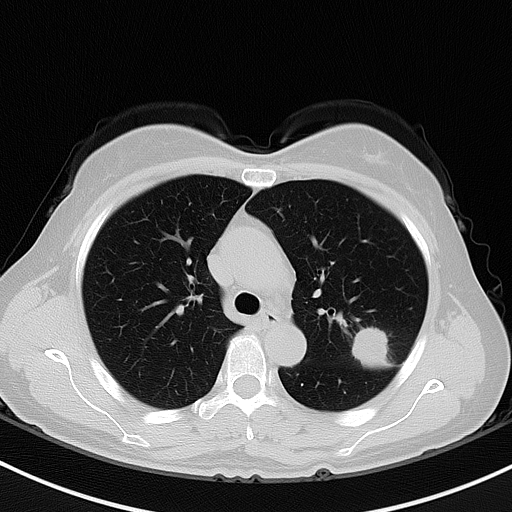nodule: (349, 326, 393, 369)
